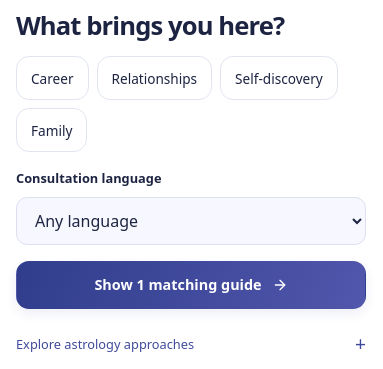
Test: explains empty mobile matches instead of sending users to an unrelated result
This screenshot has width=383, height=369.
What coordinates should you click on to do the following:
click the button "Family"
I would click on:
 (52, 130)
Its box is left=16, top=108, right=87, bottom=152.
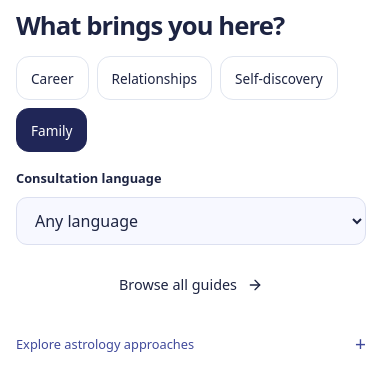
Expected: the link "Show 1 matching guide" is gone
